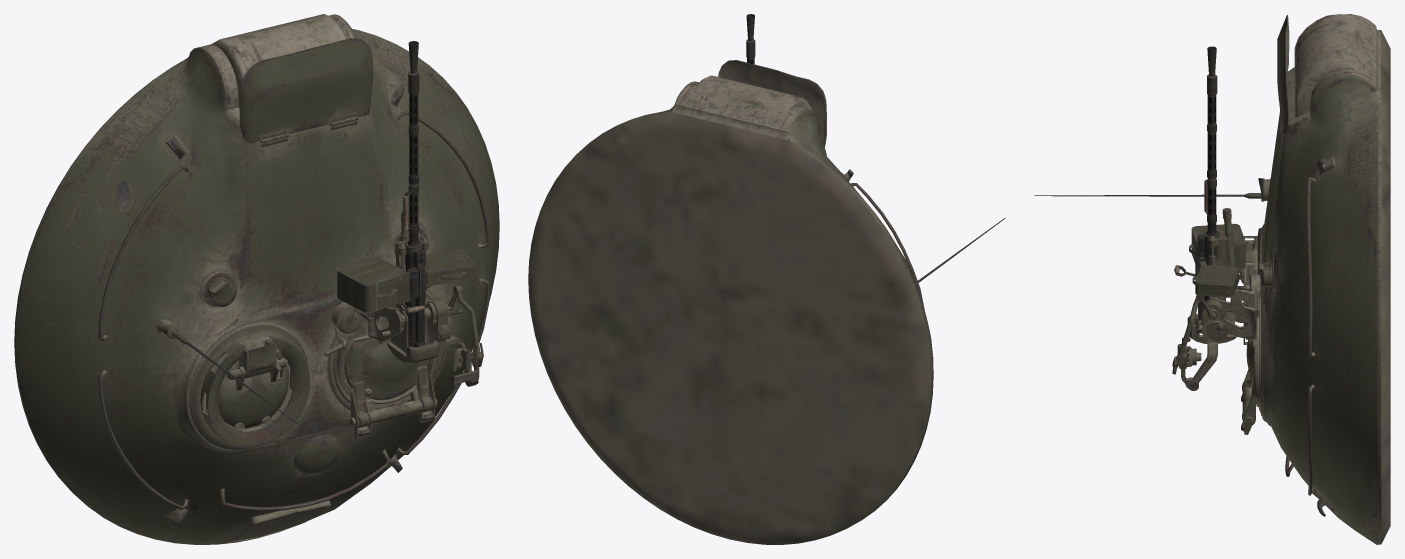
Rendered from Turret_01.glb.
3 views of the same model, side by side, from view 1: azimuth 30°, elevation 25°; view 2: azimuth 150°, elevation 25°; view 3: azimuth 270°, elevation 25° (orthographic). The views are drawn at different scales.
Parts seen in each view (by area): view 1: set_0_group_0; view 2: set_0_group_0; view 3: set_0_group_0.
Boxes of the visible parts, x1,y1,x2,y2 form: set_0_group_0: (14, 14, 499, 544); set_0_group_0: (528, 14, 1005, 544); set_0_group_0: (1034, 14, 1390, 544).
Size of the model in its own units: 3.15 by 3.39 by 2.18.
1 material, 1 textured.
